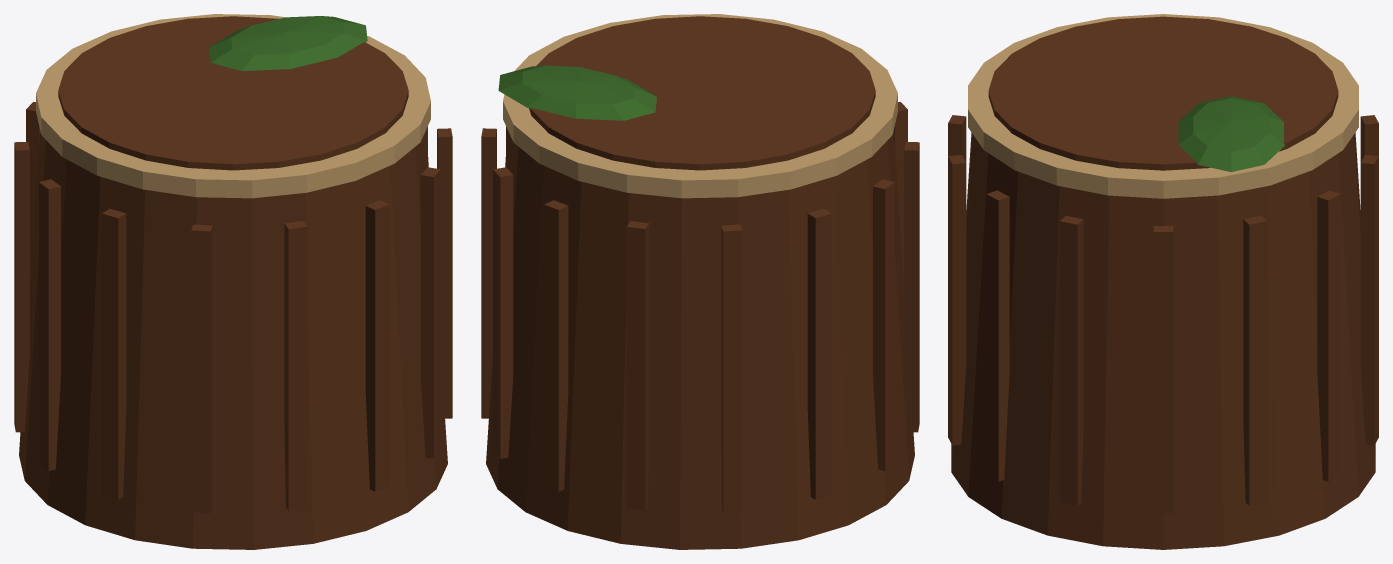
Rendered from tree_stump_seat.obj.
The picture shows the model from 3 angles, left to right: view 1: azimuth 30°, elevation 25°; view 2: azimuth 150°, elevation 25°; view 3: azimuth 270°, elevation 25°; orthographic projection.
Visible parts, largest first — view 1: main_stump, top_growth_ring_3, cut_top, top_growth_ring_2, bark_groove_6, bark_groove_3, bark_groove_4, moss_patch, bark_groove_5, bark_groove_7, bark_groove_2, bark_groove_8 (+3 smaller); view 2: main_stump, top_growth_ring_3, cut_top, top_growth_ring_2, bark_groove_8, bark_groove_11, bark_groove_10, moss_patch, bark_groove_9, bark_groove_7, bark_groove_12, bark_groove_6 (+3 smaller); view 3: main_stump, top_growth_ring_3, cut_top, top_growth_ring_2, bark_groove_1, bark_groove_13, bark_groove_2, bark_groove_12, moss_patch, bark_groove_0, bark_groove_3, bark_groove_11 (+3 smaller).
Part boxes in pixels (box(x1,y1,x2,y2)): main_stump: box(19, 130, 447, 549); top_growth_ring_3: box(58, 16, 408, 170); cut_top: box(36, 14, 430, 198); top_growth_ring_2: box(109, 38, 357, 142); bark_groove_6: box(102, 209, 126, 499); bark_groove_3: box(365, 200, 389, 491); bark_groove_4: box(284, 221, 307, 510); moss_patch: box(209, 16, 367, 70); bark_groove_5: box(191, 224, 212, 513); bark_groove_7: box(39, 179, 60, 470); bark_groove_2: box(420, 167, 440, 458); bark_groove_8: box(14, 141, 29, 432); main_stump: box(486, 130, 914, 549); top_growth_ring_3: box(529, 16, 875, 170); cut_top: box(503, 14, 897, 198); top_growth_ring_2: box(588, 37, 824, 142); bark_groove_8: box(807, 209, 831, 499); bark_groove_11: box(544, 200, 568, 491); bark_groove_10: box(626, 221, 649, 510); moss_patch: box(498, 65, 656, 120); bark_groove_9: box(721, 224, 742, 513); bark_groove_7: box(873, 179, 894, 470); bark_groove_12: box(493, 167, 513, 458); bark_groove_6: box(904, 141, 919, 432); main_stump: box(951, 132, 1375, 549); top_growth_ring_3: box(988, 16, 1338, 170); cut_top: box(968, 14, 1358, 198); top_growth_ring_2: box(1040, 38, 1287, 142); bark_groove_1: box(1059, 216, 1083, 505); bark_groove_13: box(1243, 216, 1267, 505); bark_groove_2: box(986, 190, 1009, 481); bark_groove_12: box(1317, 190, 1340, 481); moss_patch: box(1178, 96, 1284, 171); bark_groove_0: box(1153, 226, 1173, 513); bark_groove_3: box(948, 155, 966, 445); bark_groove_11: box(1360, 155, 1378, 445).
Size of the model in its own units: 0.775 by 0.745 by 0.7634.
